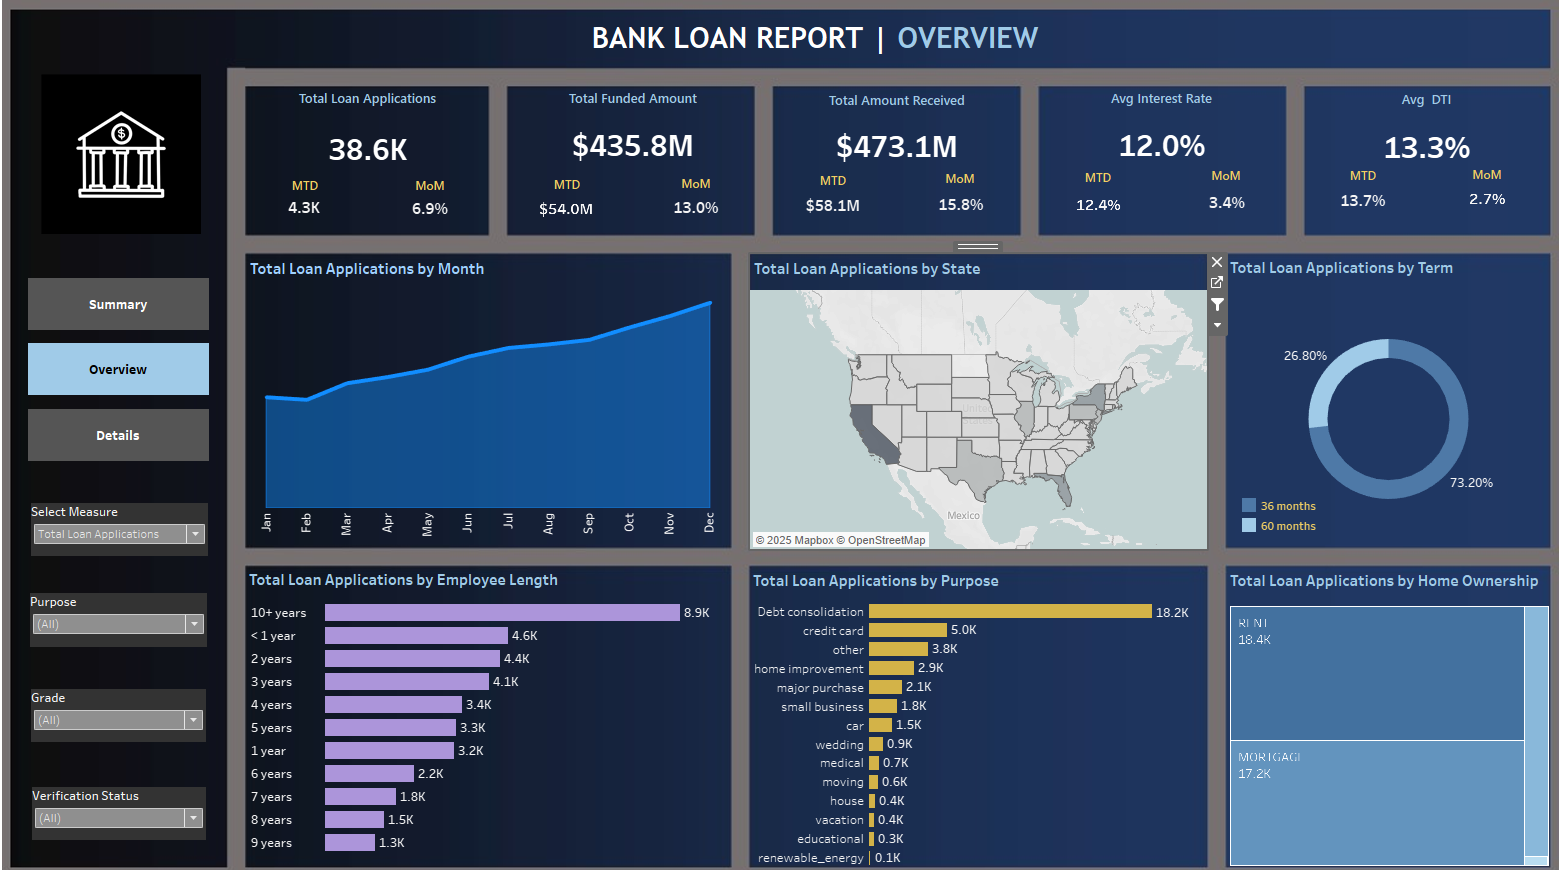

The dashboard page shown, as its layout file describes it:
{"tool":"tableau","page":{"name":"OVERVIEW","canvas":[1600,900],"ordinal":1},"visuals":[{"type":"image","param":"D:/Projects/SQL+Tableau/Tableau Background 2.jpg","box":[8,8,1584,884]},{"type":"text","box":[608,23,475,53]},{"type":"image","param":"C:/Users/amrut/AppData/Local/Temp/TableauTemp/0uo6gw109sgqj40zrpzfc0bfufca/Sheet","box":[40,86,201,160]},{"type":"worksheet","title":"Total Loan Applications","mark":"Automatic","box":[265,97,243,93]},{"type":"worksheet","title":"Total Funded Amount","mark":"Automatic","box":[526,97,252,84]},{"type":"worksheet","title":"Avg Interest Rate","mark":"Automatic","box":[1054,97,253,85]},{"type":"worksheet","title":"Avg  DTI","mark":"Automatic","box":[1322,98,247,87]},{"type":"worksheet","title":"Total Amount Received","mark":"Automatic","box":[792,99,248,82]},{"type":"text","box":[1480,172,52,29]},{"type":"text","box":[1219,173,52,29]},{"type":"text","box":[1356,173,52,29]},{"type":"text","box":[1091,175,52,29]},{"type":"text","box":[953,176,52,29]},{"type":"text","box":[826,178,52,29]},{"type":"text","box":[689,181,52,29]},{"type":"text","box":[560,182,52,29]},{"type":"text","box":[298,183,52,29]},{"type":"text","box":[423,183,52,29]},{"type":"worksheet","title":"MTD Avg DTI","mark":"Automatic","box":[1350,193,64,38]},{"type":"worksheet","title":"MoM Avg DTI","mark":"Automatic","box":[1482,194,48,31]},{"type":"worksheet","title":"MTD Avg Int Rate","mark":"Automatic","box":[1087,195,59,41]},{"type":"worksheet","title":"MTD Total Amount Received","mark":"Automatic","box":[817,196,69,41]},{"type":"worksheet","title":"MoM Total Amount Received","mark":"Automatic","box":[947,196,65,39]},{"type":"worksheet","title":"MoM Avg Int Rate","mark":"Automatic","box":[1219,196,54,35]},{"type":"worksheet","title":"MTD Total Funded Amount","mark":"Automatic","box":[553,197,64,45]},{"type":"worksheet","title":"MoM Total Funded Amount","mark":"Automatic","box":[686,197,58,43]},{"type":"worksheet","title":"MTD Total Loan Applications","mark":"Automatic","box":[286,202,74,34]},{"type":"worksheet","title":"MoM Loan Applications","mark":"Automatic","box":[420,202,58,36]},{"type":"worksheet","title":"Term","mark":"Pie","rows":["Calculation_2745506982337327146","Calculation_2745506982337327146"],"box":[1245,265,325,296]},{"type":"worksheet","title":"Month","mark":"Area","rows":["Calculation_2745506982312480808","Calculation_2745506982312480808"],"cols":["issue_date"],"box":[265,266,485,294]},{"type":"worksheet","title":"State","mark":"Multipolygon","box":[769,266,457,295]},{"type":"dashboard-object","box":[47,290,181,52]},{"type":"dashboard-object","box":[47,355,181,52]},{"type":"dashboard-object","box":[47,421,181,52]},{"type":"legend","title":"Term","param":"[federated.0qi6f7n025kvux1dmza5b0lfinns].[none:term:nk]","box":[1258,507,93,42]},{"type":"parameter","param":"[Parameters].[Parameter 1]","box":[50,515,177,53]},{"type":"worksheet","title":"Emp Length","mark":"Automatic","rows":["emp_length"],"cols":["Calculation_2745506982312480808"],"box":[264,577,487,302]},{"type":"worksheet","title":"Purpose","mark":"Automatic","rows":["purpose"],"cols":["Calculation_2745506982312480808"],"box":[768,578,458,301]},{"type":"worksheet","title":"Home Ownership","mark":"Automatic","box":[1245,578,326,303]},{"type":"filter","title":"Avg  DTI","param":"[federated.0qi6f7n025kvux1dmza5b0lfinns].[none:purpose:nk]","box":[49,605,177,54]},{"type":"filter","title":"Avg  DTI","param":"[federated.0qi6f7n025kvux1dmza5b0lfinns].[none:grade:nk]","box":[50,701,175,53]},{"type":"filter","title":"Avg  DTI","param":"[federated.0qi6f7n025kvux1dmza5b0lfinns].[none:verification_status:nk]","box":[51,799,174,53]}]}

Visuals, with their boxes in screenshot pixels (x1, y1, x2, y2), scaled from the page's 1600x900 canvas onto the 1560x870 screenshot:
image: 8/8/1552/862
text: 593/22/1056/73
image: 39/83/235/238
"Total Loan Applications" worksheet: 258/94/495/184
"Total Funded Amount" worksheet: 513/94/759/175
"Avg Interest Rate" worksheet: 1028/94/1274/176
"Avg  DTI" worksheet: 1289/95/1530/179
"Total Amount Received" worksheet: 772/96/1014/175
text: 1443/166/1494/194
text: 1189/167/1239/195
text: 1322/167/1373/195
text: 1064/169/1114/197
text: 929/170/980/198
text: 805/172/856/200
text: 672/175/722/203
text: 546/176/597/204
text: 291/177/341/205
text: 412/177/463/205
"MTD Avg DTI" worksheet: 1316/187/1379/223
"MoM Avg DTI" worksheet: 1445/188/1492/218
"MTD Avg Int Rate" worksheet: 1060/188/1117/228
"MTD Total Amount Received" worksheet: 797/189/864/229
"MoM Total Amount Received" worksheet: 923/189/987/227
"MoM Avg Int Rate" worksheet: 1189/189/1241/223
"MTD Total Funded Amount" worksheet: 539/190/602/234
"MoM Total Funded Amount" worksheet: 669/190/725/232
"MTD Total Loan Applications" worksheet: 279/195/351/228
"MoM Loan Applications" worksheet: 410/195/466/230
"Term" worksheet (Pie marks): 1214/256/1531/542
"Month" worksheet (Area marks): 258/257/731/541
"State" worksheet (Multipolygon marks): 750/257/1195/542
dashboard-object: 46/280/222/331
dashboard-object: 46/343/222/393
dashboard-object: 46/407/222/457
"Term" legend: 1227/490/1317/531
parameter: 49/498/221/549
"Emp Length" worksheet: 257/558/732/850
"Purpose" worksheet: 749/559/1195/850
"Home Ownership" worksheet: 1214/559/1532/852
"Avg  DTI" filter: 48/585/220/637
"Avg  DTI" filter: 49/678/219/729
"Avg  DTI" filter: 50/772/219/824
